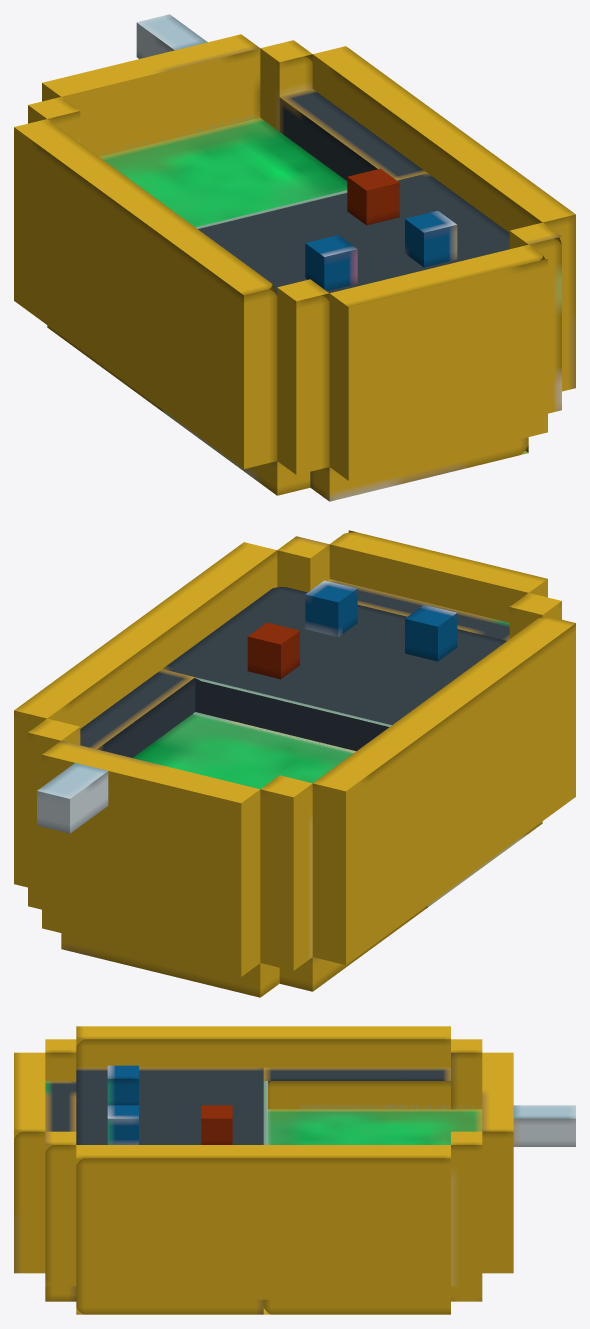
Rendered from geiger_counter.obj.
3 views of the same model, one above another, from view 1: azimuth 30°, elevation 25°; view 2: azimuth 150°, elevation 25°; view 3: azimuth 270°, elevation 25° (orthographic). The views are drawn at different scales.
Visible parts, largest first — view 1: body, display, button; view 2: body, display, button; view 3: body, display, button.
Part boxes in pixels (x1=…): body: x1=14, y1=14, x2=575, y2=501; display: x1=97, y1=115, x2=347, y2=228; button: x1=305, y1=168, x2=457, y2=290; body: x1=14, y1=530, x2=575, y2=991; display: x1=61, y1=677, x2=391, y2=997; button: x1=247, y1=580, x2=457, y2=679; body: x1=14, y1=1026, x2=575, y2=1314; display: x1=263, y1=1081, x2=482, y2=1301; button: x1=107, y1=1065, x2=232, y2=1144.
Bounding box in the file's own units: 0.625 × 0.375 × 1.12.
